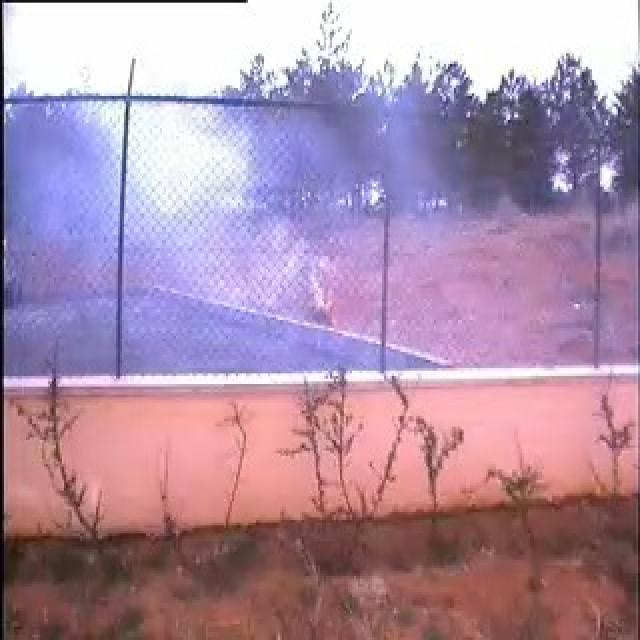smoke: (47, 100, 356, 360)
